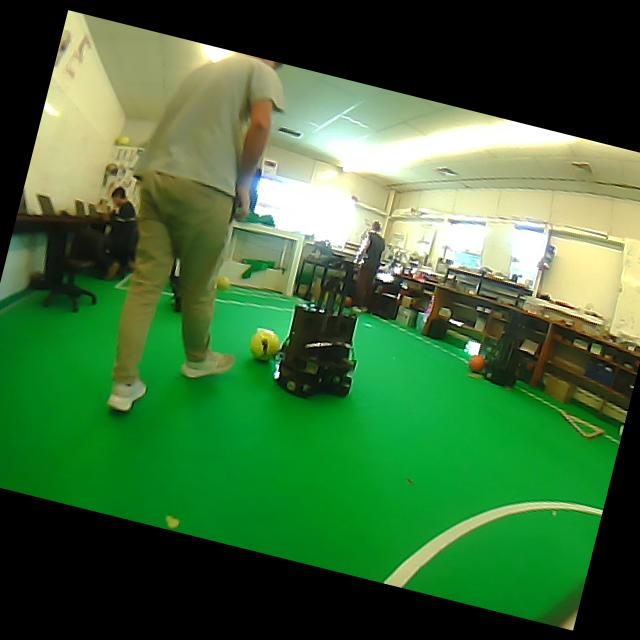ball: (249, 327, 280, 360), (468, 354, 484, 372), (216, 276, 229, 289), (115, 135, 129, 145)
goal: (283, 234, 304, 296)
robot: (272, 307, 356, 397), (484, 313, 520, 387)
